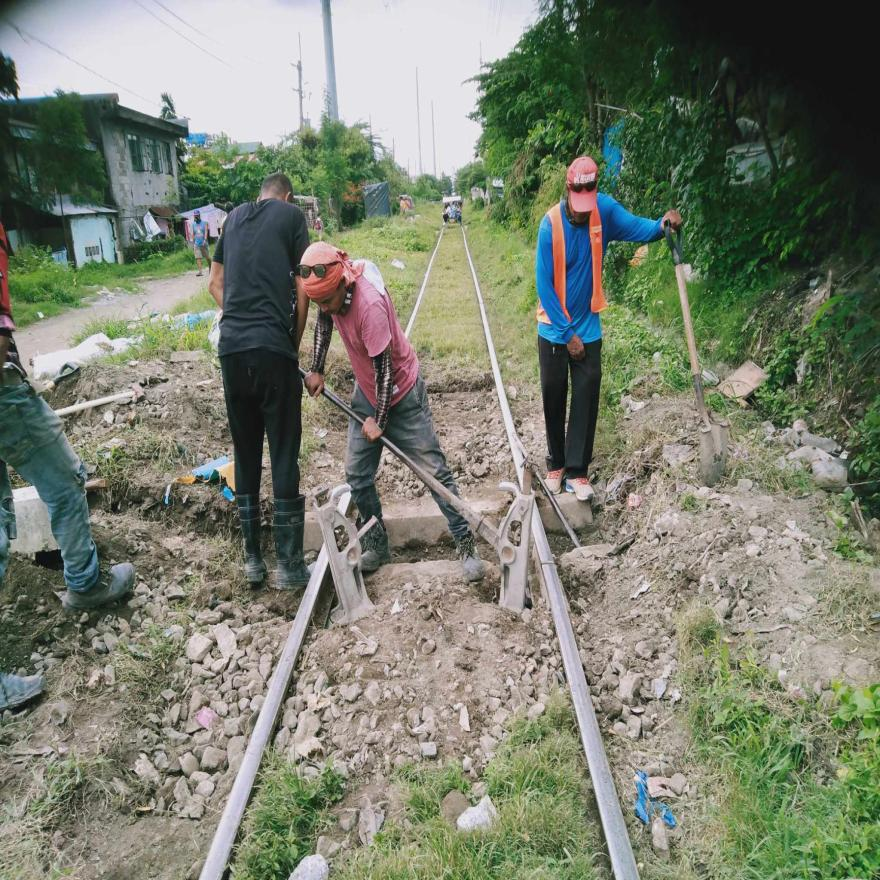railway-gap: (528, 539, 564, 590)
